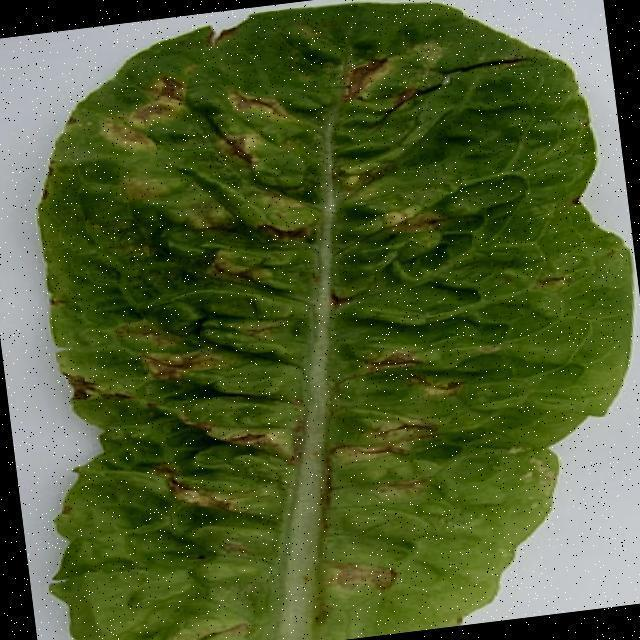Downy_Mildew: (37, 3, 493, 640)
